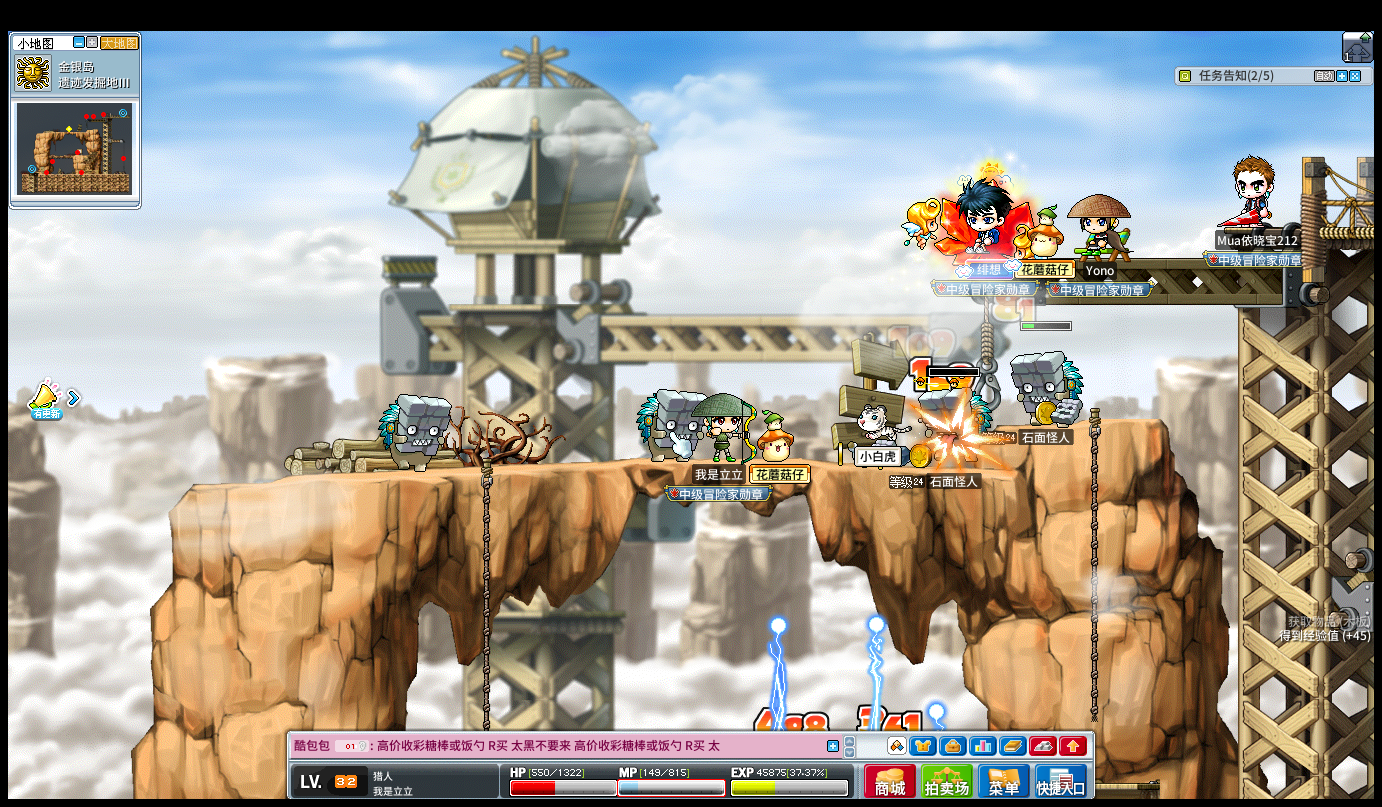floor: (199, 454, 1072, 481), (998, 415, 1163, 430)
monster: (378, 394, 449, 474), (1011, 351, 1085, 424), (635, 388, 702, 461)
rope: (1086, 408, 1100, 751), (478, 455, 493, 732), (479, 456, 492, 670)
